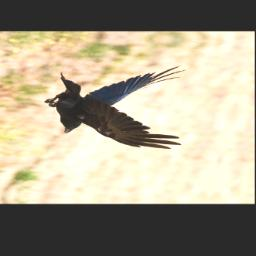Crow: (30, 60, 206, 152)
